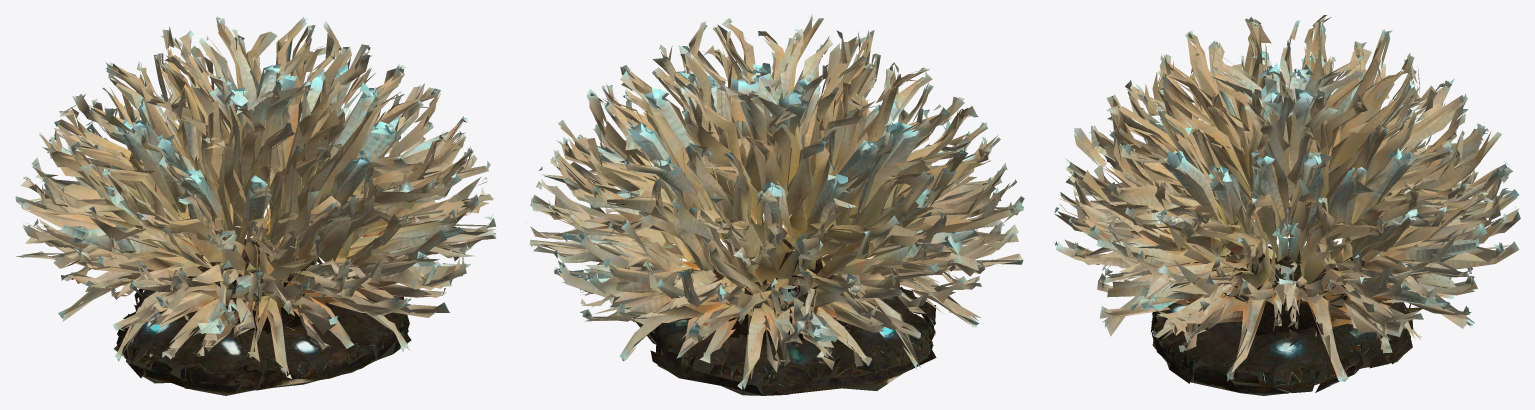
Rendered from bloom_anemone.glb.
The picture shows the model from 3 angles, left to right: view 1: azimuth 30°, elevation 25°; view 2: azimuth 150°, elevation 25°; view 3: azimuth 270°, elevation 25°; orthographic projection. The views are drawn at different scales.
Parts seen in each view (by area): view 1: Mesh_0; view 2: Mesh_0; view 3: Mesh_0.
Boxes of the visible parts, x1,y1,x2,y2 form: Mesh_0: (15,16,496,395); Mesh_0: (526,14,1024,395); Mesh_0: (1054,15,1520,395).
Size of the model in its own units: 1.88 by 1.3 by 1.9.
1 material, 1 textured.
